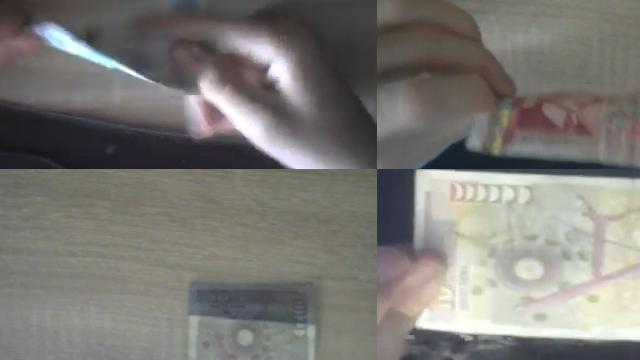10leva: (187, 284, 316, 360)
20leva: (29, 19, 182, 93)
5leva: (465, 90, 640, 169)
